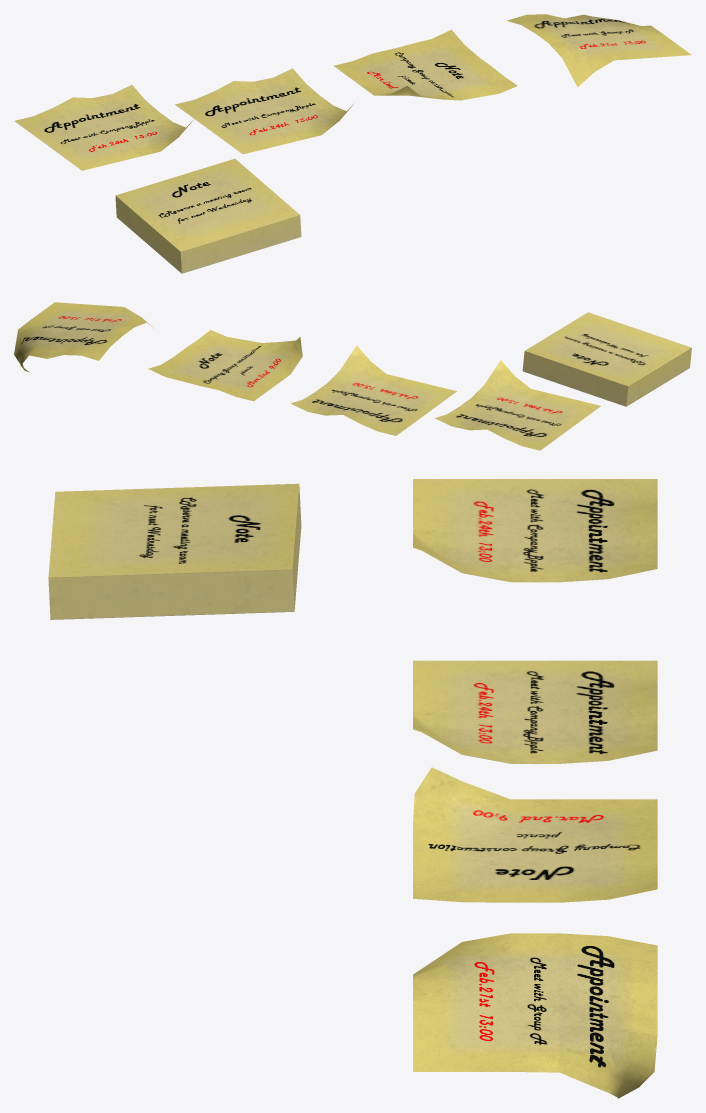
Rendered from memo6.fbx.
3 views of the same model, one above another, from view 1: azimuth 30°, elevation 25°; view 2: azimuth 150°, elevation 25°; view 3: azimuth 270°, elevation 25° (orthographic). The views are drawn at different scales.
Visible parts, largest first — view 1: SM_post_it_notes.001, SM_post_it_notes, SM_post_it_notes.004, SM_post_it_notes.002, SM_post_it_notes.003; view 2: SM_post_it_notes.001, SM_post_it_notes.004, SM_post_it_notes, SM_post_it_notes.002, SM_post_it_notes.003; view 3: SM_post_it_notes.003, SM_post_it_notes.001, SM_post_it_notes.002, SM_post_it_notes, SM_post_it_notes.004.
Part boxes in pixels (box(x1,y1,x2,y2)): SM_post_it_notes.001: box(115, 158, 301, 273); SM_post_it_notes: box(175, 68, 354, 154); SM_post_it_notes.004: box(14, 85, 193, 170); SM_post_it_notes.002: box(333, 29, 517, 100); SM_post_it_notes.003: box(506, 14, 691, 87); SM_post_it_notes.001: box(522, 312, 691, 406); SM_post_it_notes.004: box(435, 360, 600, 450); SM_post_it_notes: box(291, 345, 456, 435); SM_post_it_notes.002: box(148, 330, 302, 401); SM_post_it_notes.003: box(14, 302, 154, 372); SM_post_it_notes.003: box(413, 933, 657, 1098); SM_post_it_notes.001: box(48, 483, 301, 619); SM_post_it_notes.002: box(413, 767, 657, 902); SM_post_it_notes: box(413, 660, 657, 763); SM_post_it_notes.004: box(413, 479, 657, 582).
Size of the model in its own units: 39.33 by 5.34 by 18.94.
Materials: 1 (1 with a texture image).
